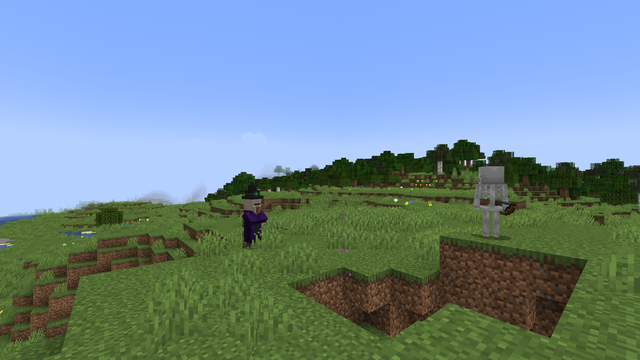sorcieres: (242, 196, 262, 248)
squelettes: (475, 166, 506, 239)
